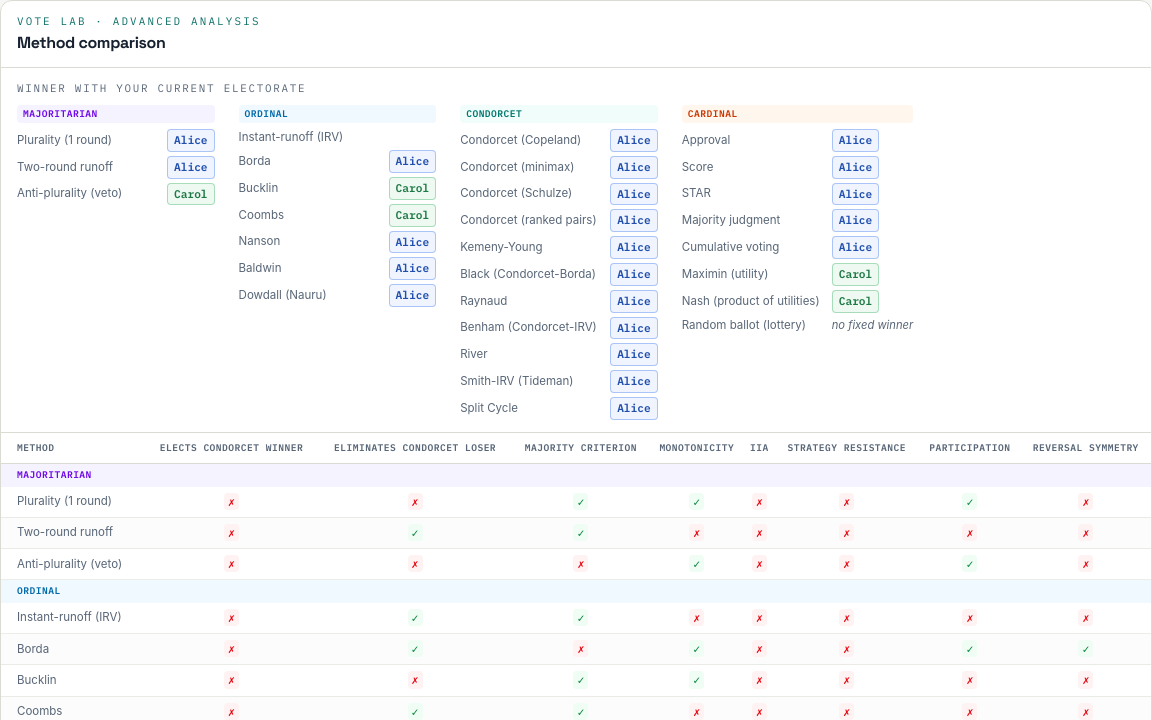
Test case: MethodsMatrix › what a cell rests on › an unsourced literature cell says its source is still to be confirmed
Click the button with test id "matrix-cell-plurality-iia".
click(759, 501)  # box top-left (752, 493), bottom-right (767, 510)
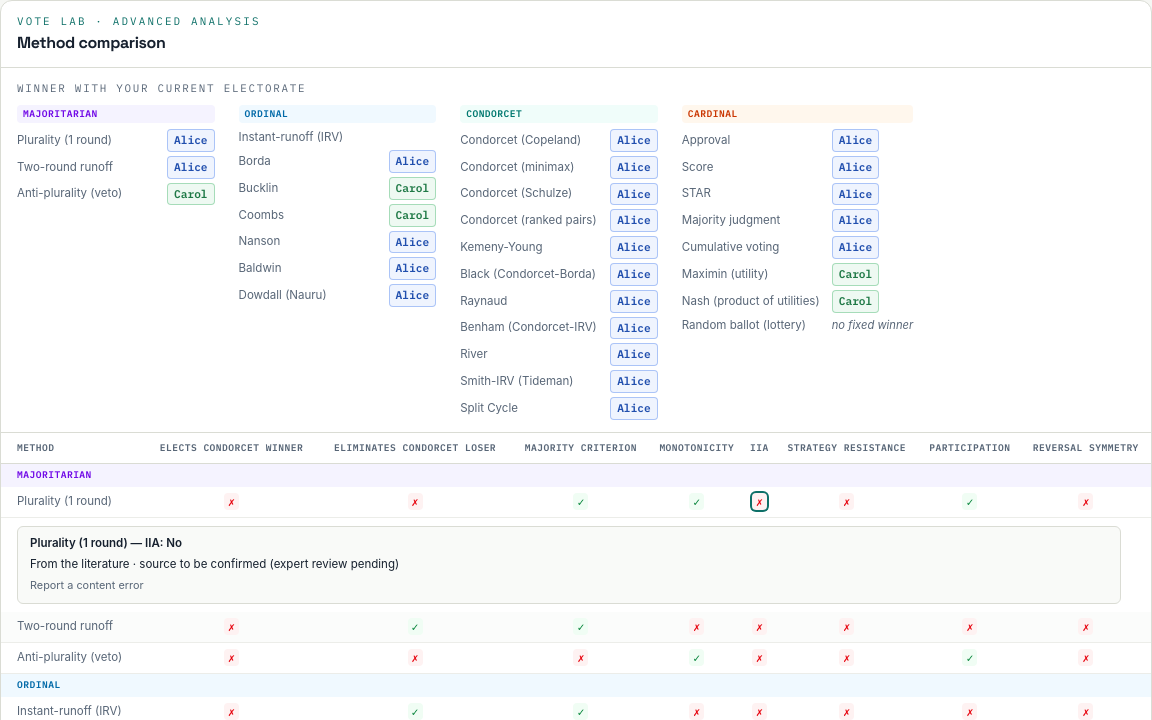
Expected: the element with test id "matrix-cell-source" shows "to be confirmed", top-left (30, 557), bottom-right (399, 571)
Expected: the button with test id "matrix-cell-plurality-iia" is expanded, top-left (752, 493), bottom-right (767, 510)
